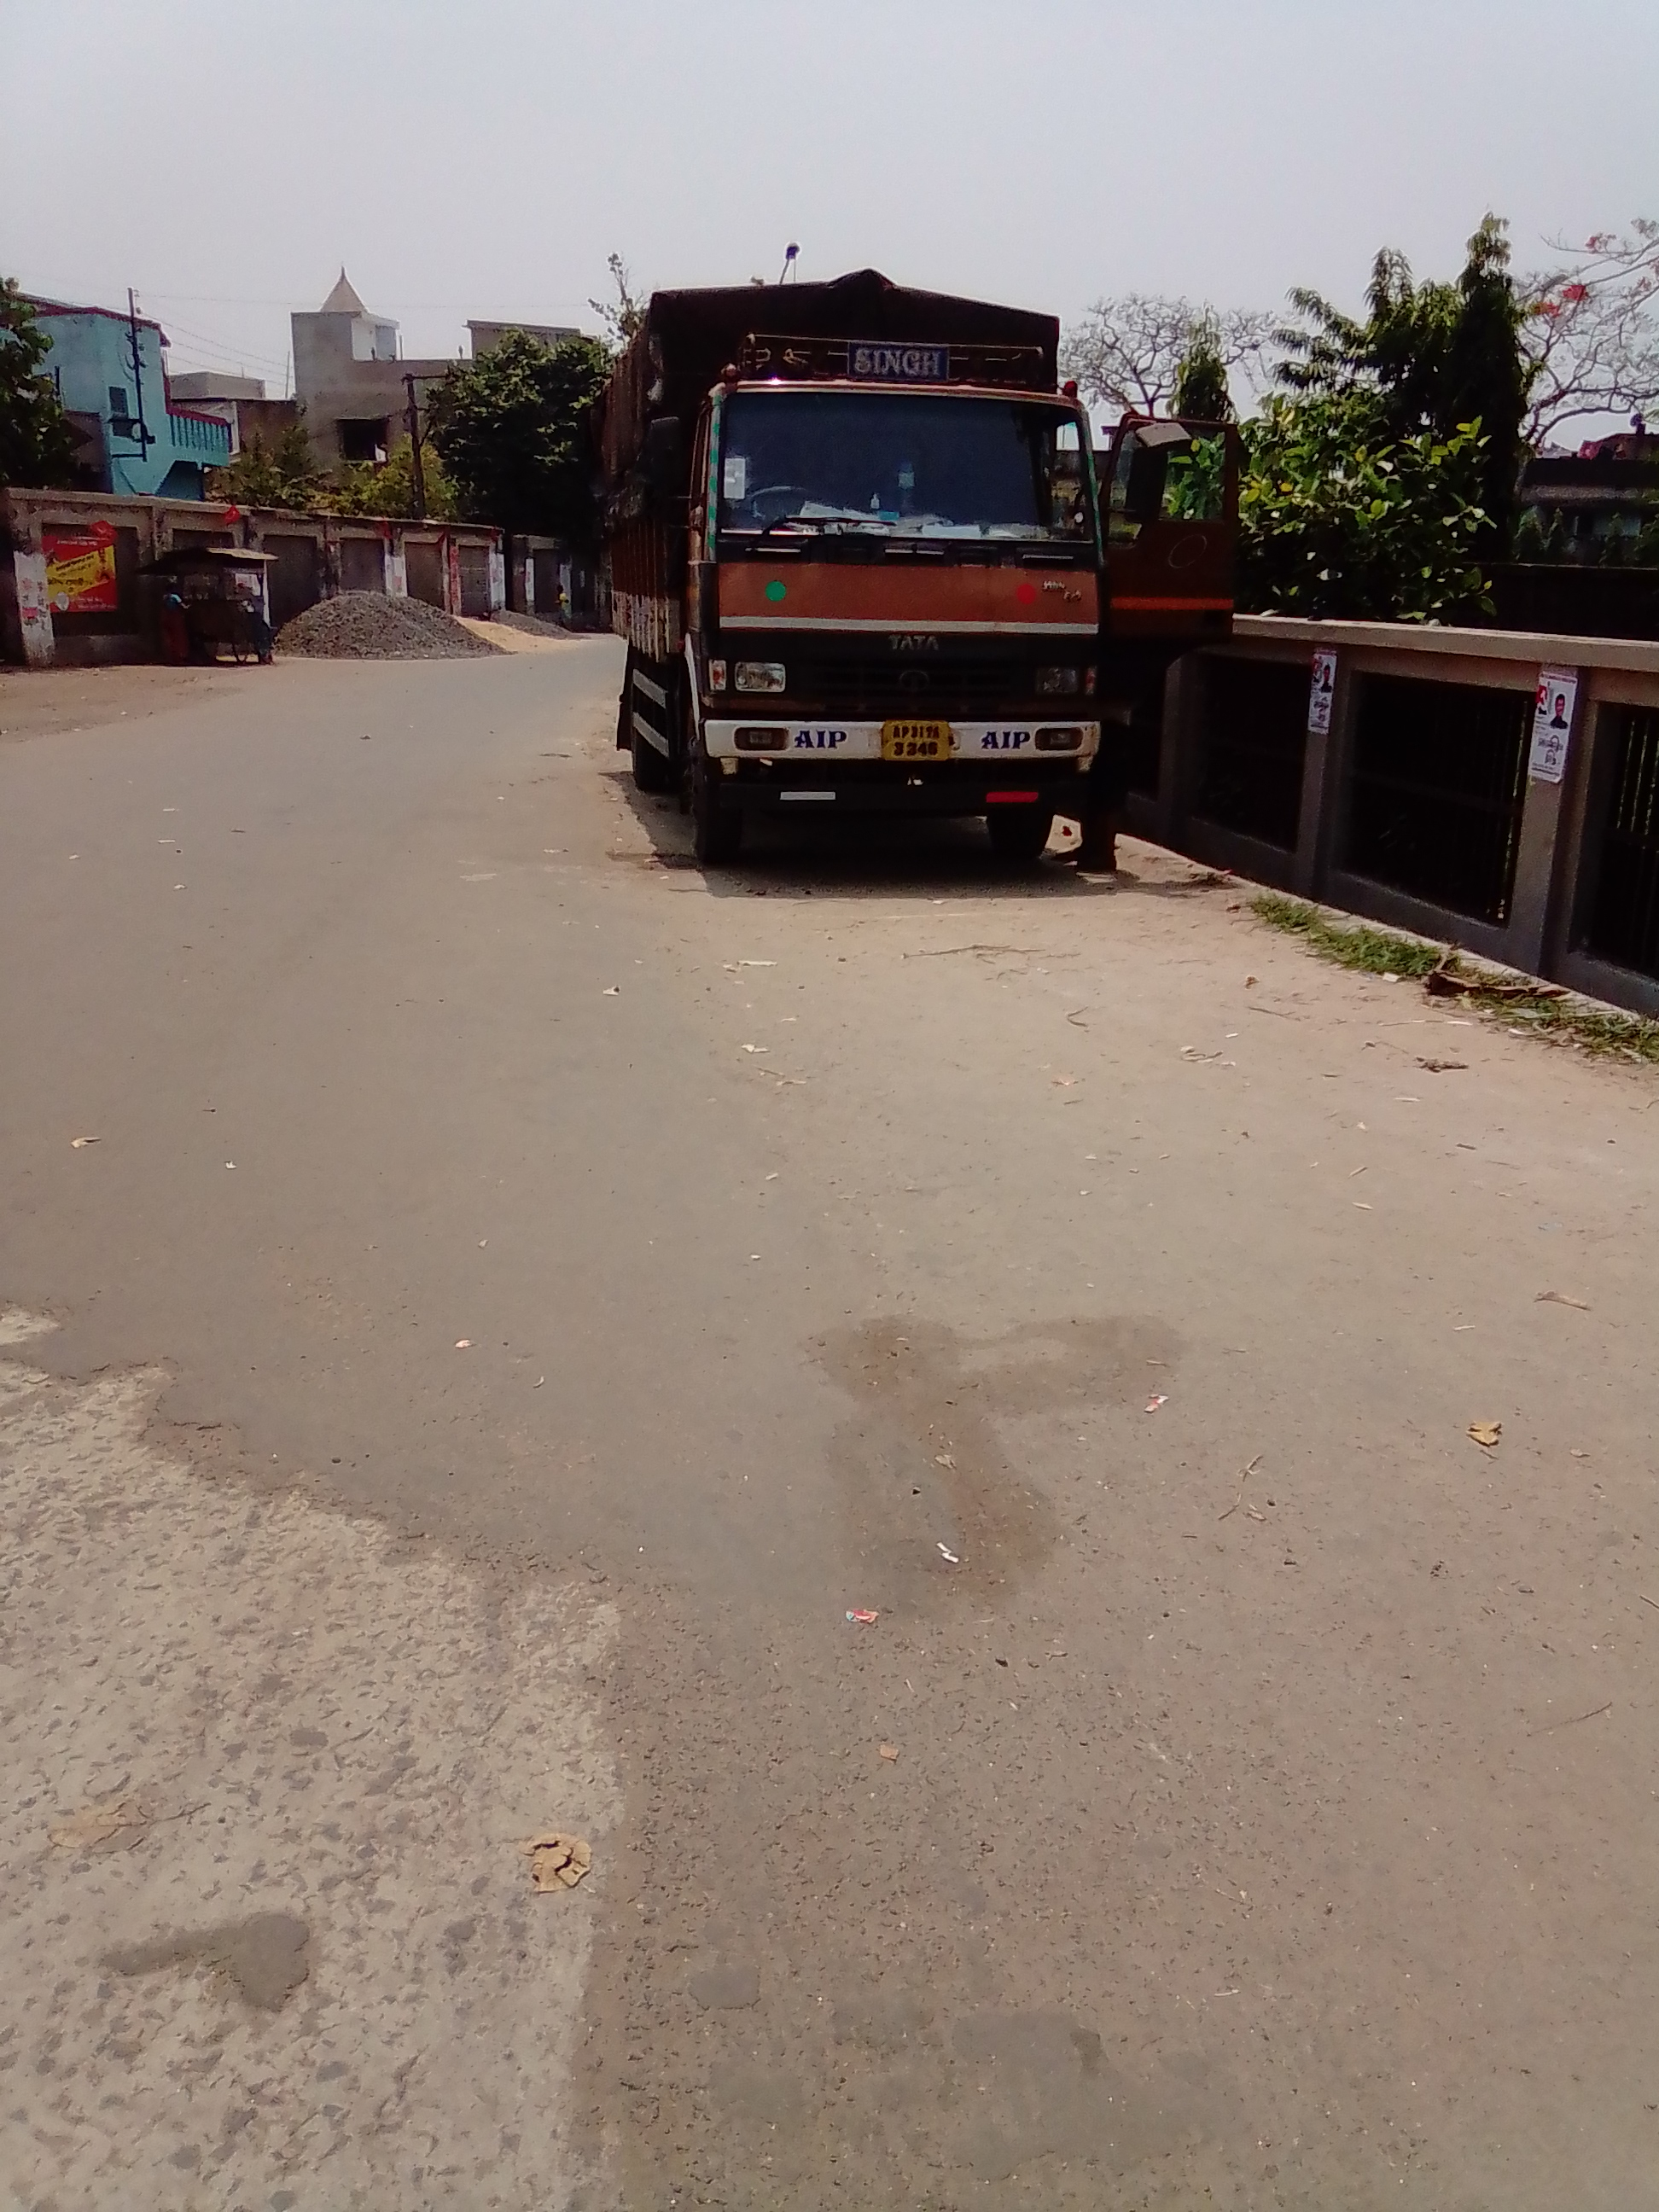truck: (573, 266, 1243, 866)
